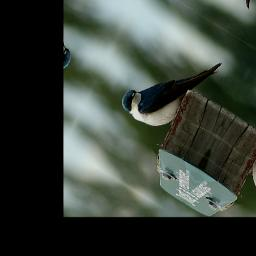Swallow: (117, 23, 223, 148)
